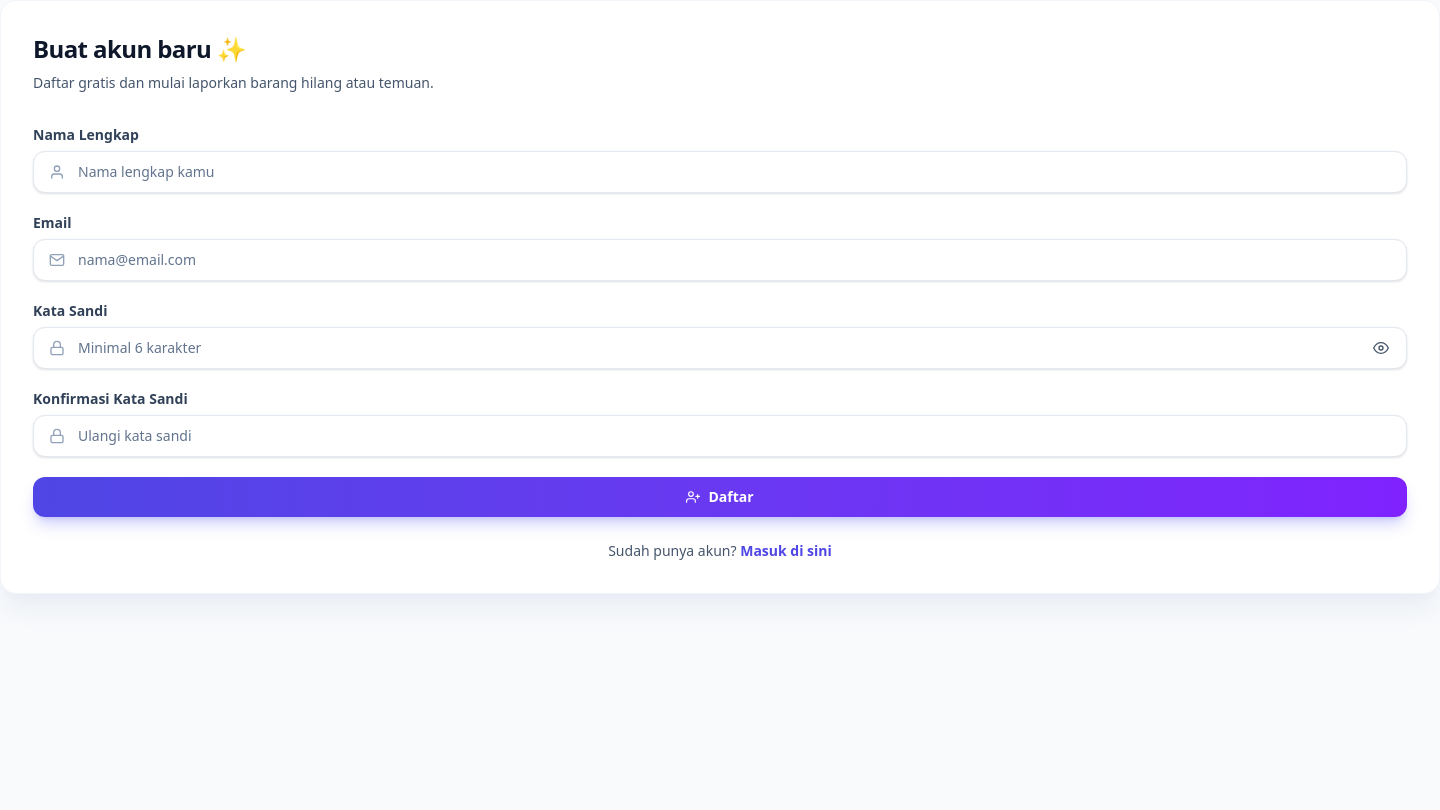
Test: RegisterPage › menampilkan pesan untuk nama pendek, email tidak valid, sandi pendek, dan konfirmasi berbeda
The width and height of the screenshot is (1440, 810).
Type "Bu" into the field labelled "Nama Lengkap".
click(720, 172); type("Bu")  # box [33,151,1407,193]
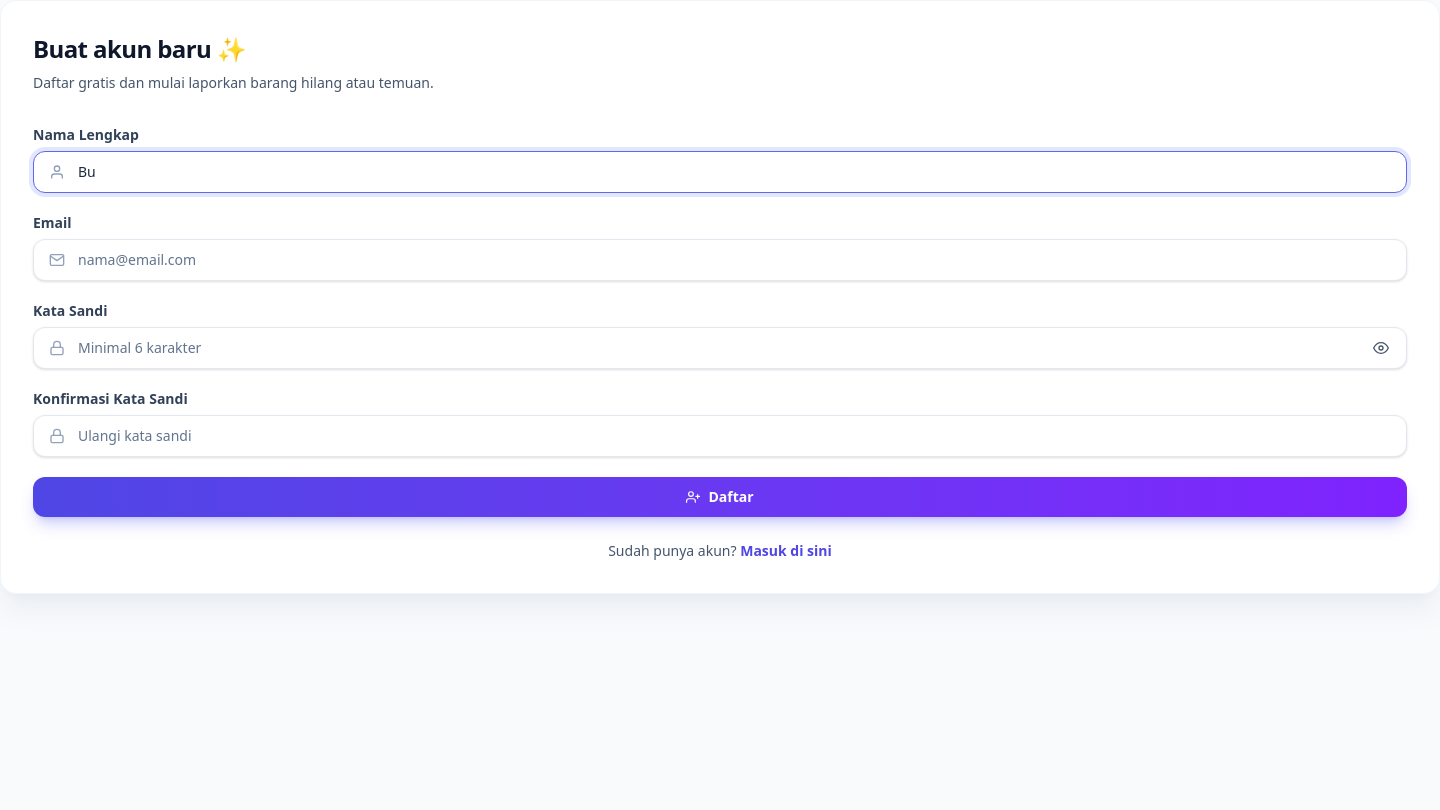
Type "bukan-email" into the field labelled "Email".
click(720, 260); type("bukan-email")  # box [33,239,1407,281]
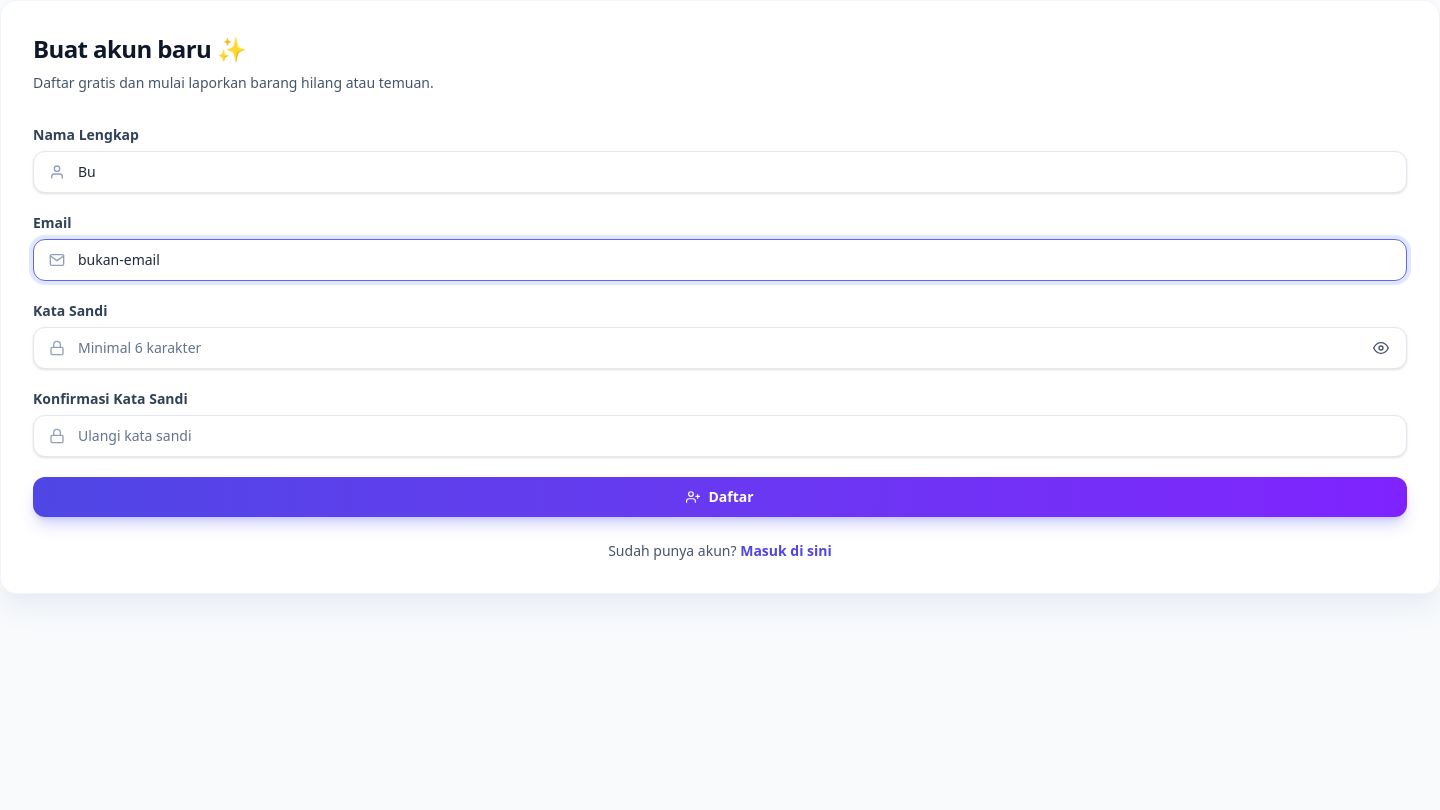
Type "123" into the password field labelled "Kata Sandi".
click(720, 348); type("123")  # box [33,327,1407,369]
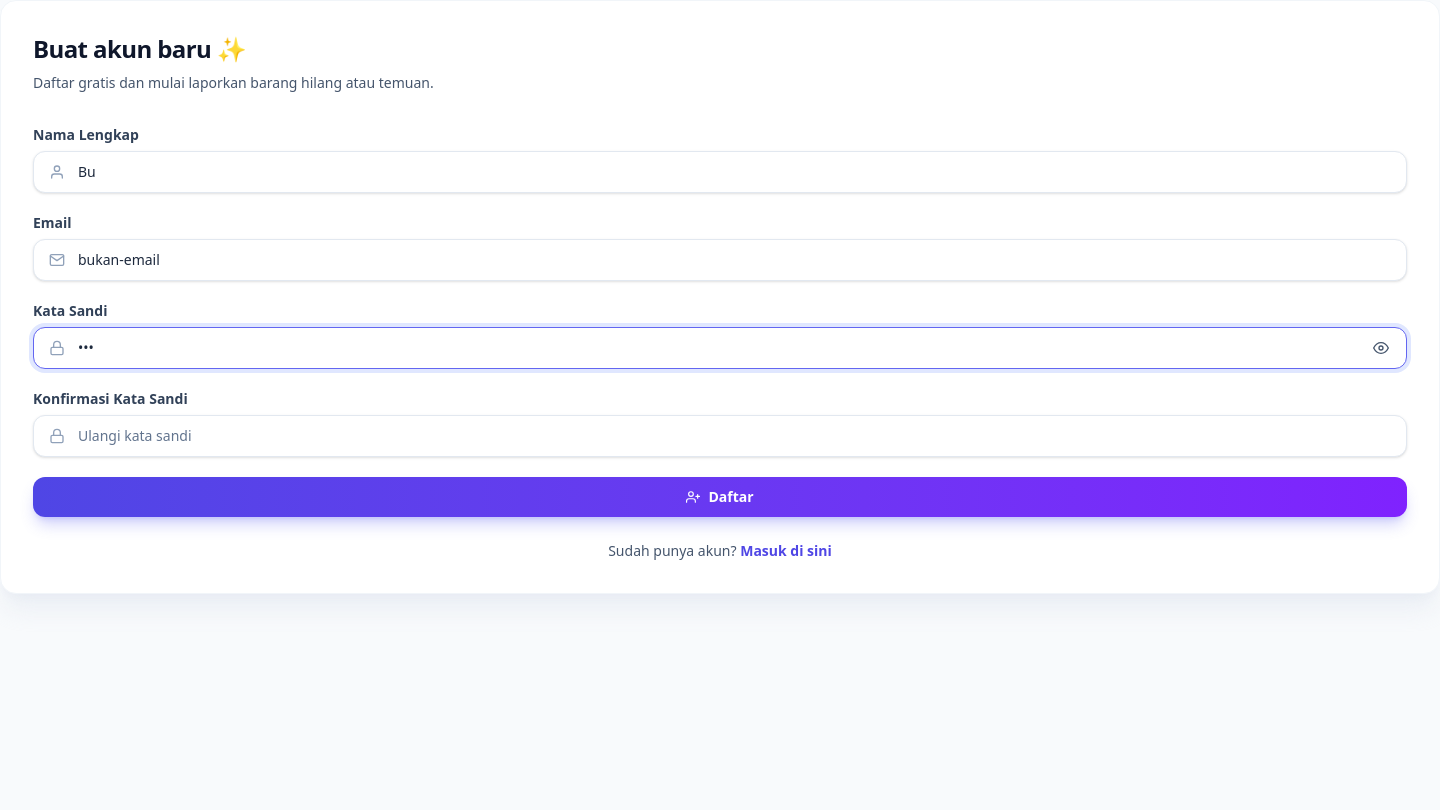
Type "456" into the password field labelled "Konfirmasi Kata Sandi".
click(720, 436); type("456")  # box [33,415,1407,457]
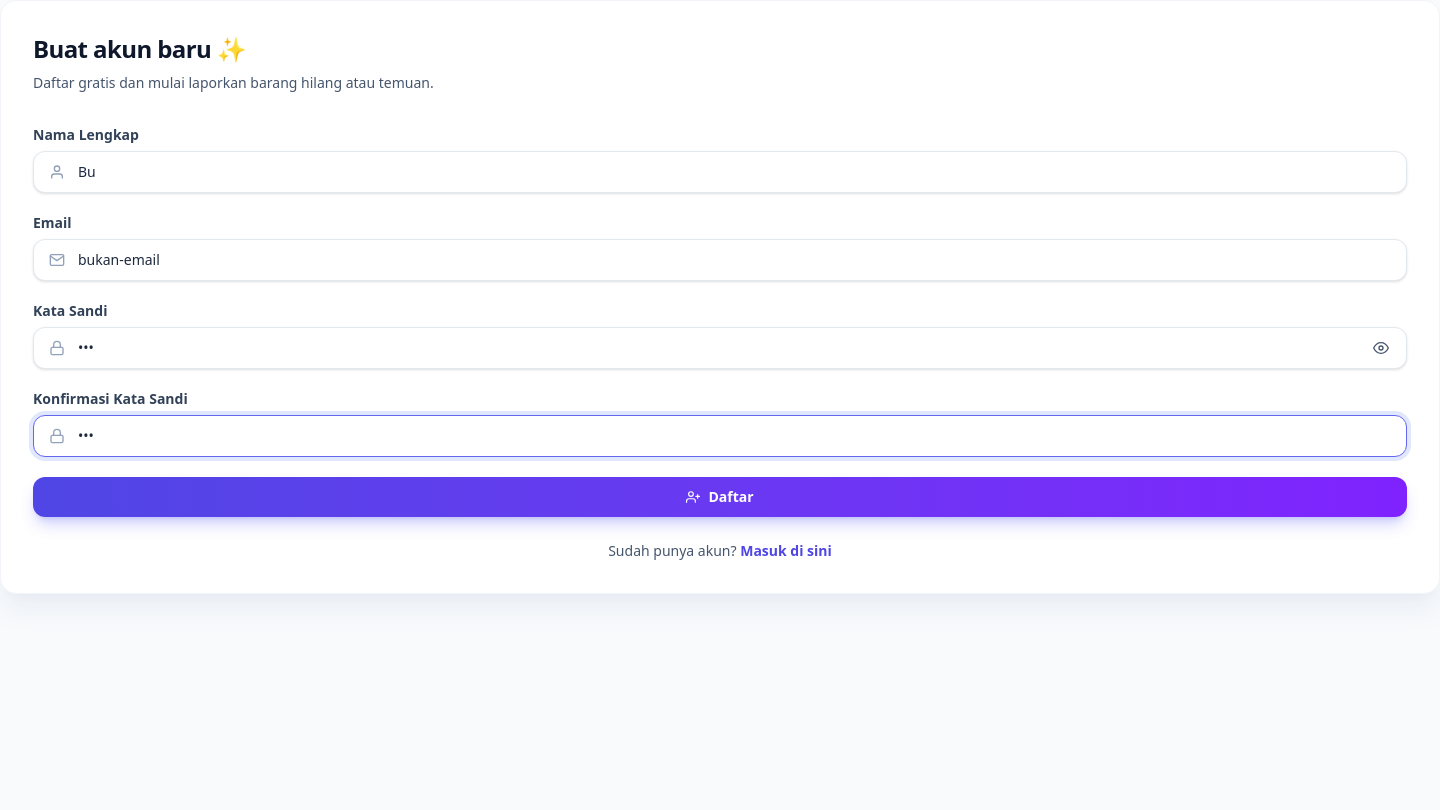
Click the button "Daftar".
click(720, 497)  # box [33,477,1407,517]
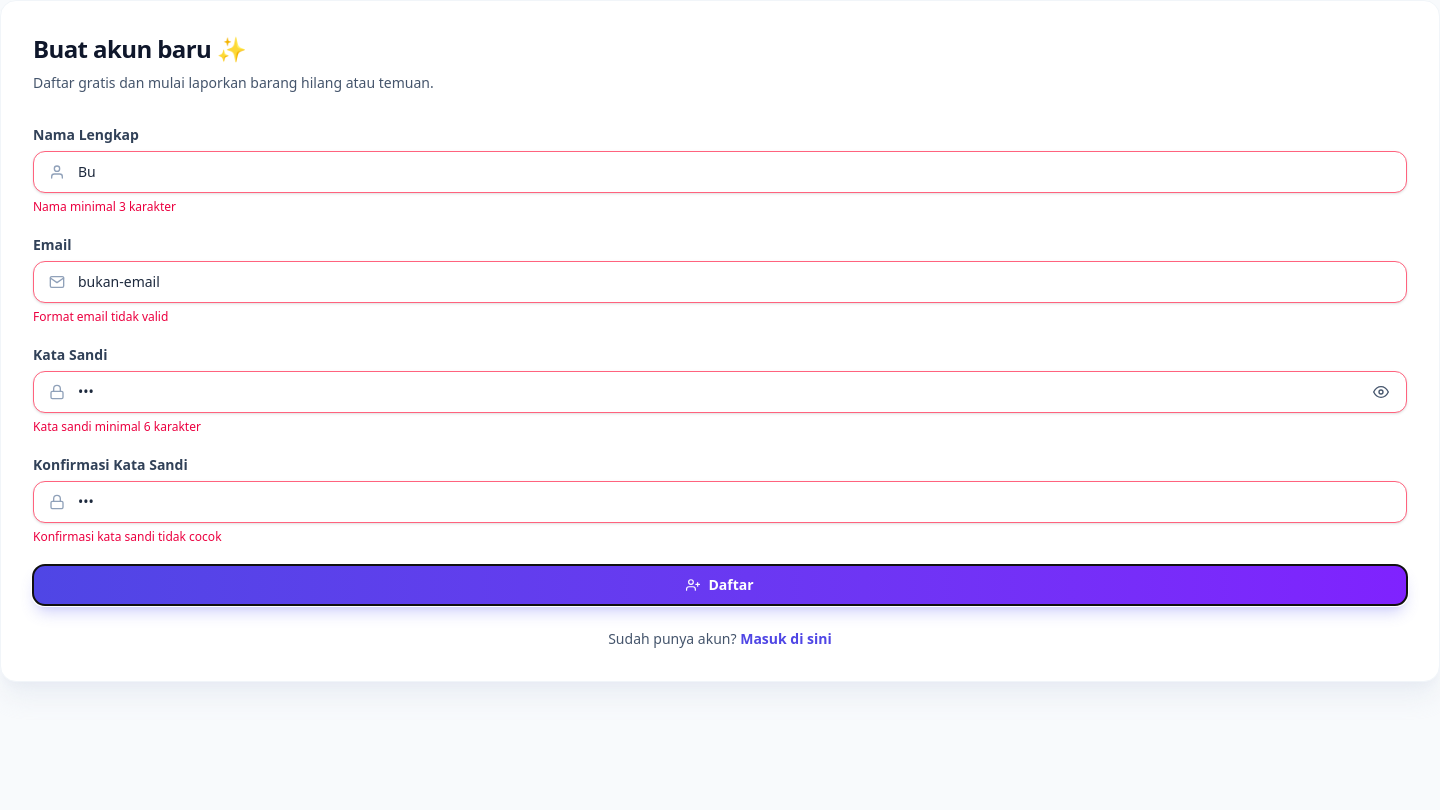
Expected: the text "Nama minimal 3 karakter" is shown, [33,198,176,215]
Expected: the text "Format email tidak valid" is shown, [33,308,168,325]
Expected: the text "Kata sandi minimal 6 karakter" is shown, [33,418,201,435]
